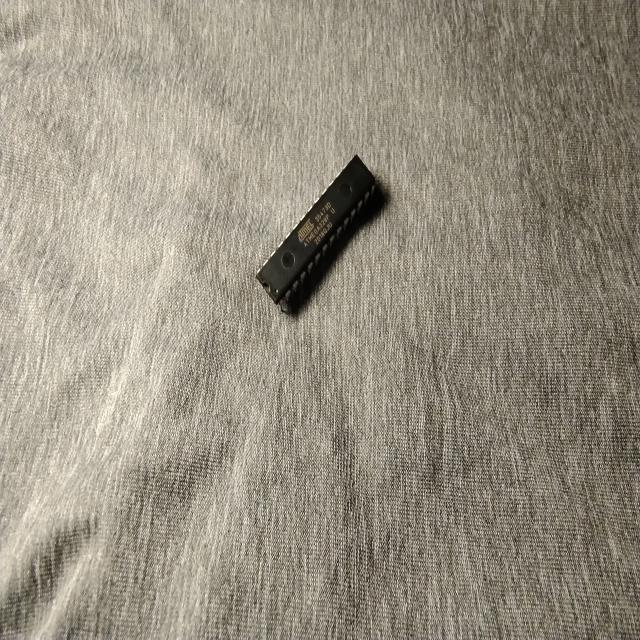atmega: (254, 151, 378, 315)
